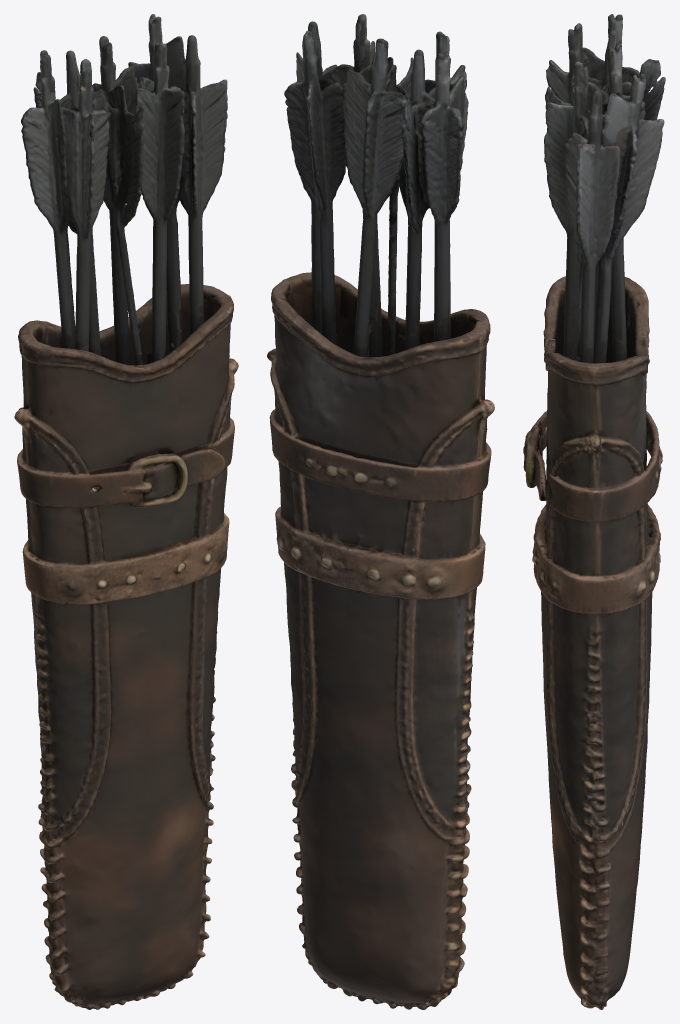
The model's file is Quiver.glb.
3 views of the same model, side by side, from view 1: azimuth 30°, elevation 25°; view 2: azimuth 150°, elevation 25°; view 3: azimuth 270°, elevation 25° (orthographic). The views are drawn at different scales.
Bounding box in the file's own units: 0.4586 × 1.9 × 0.2596.
1 material, 1 textured.
